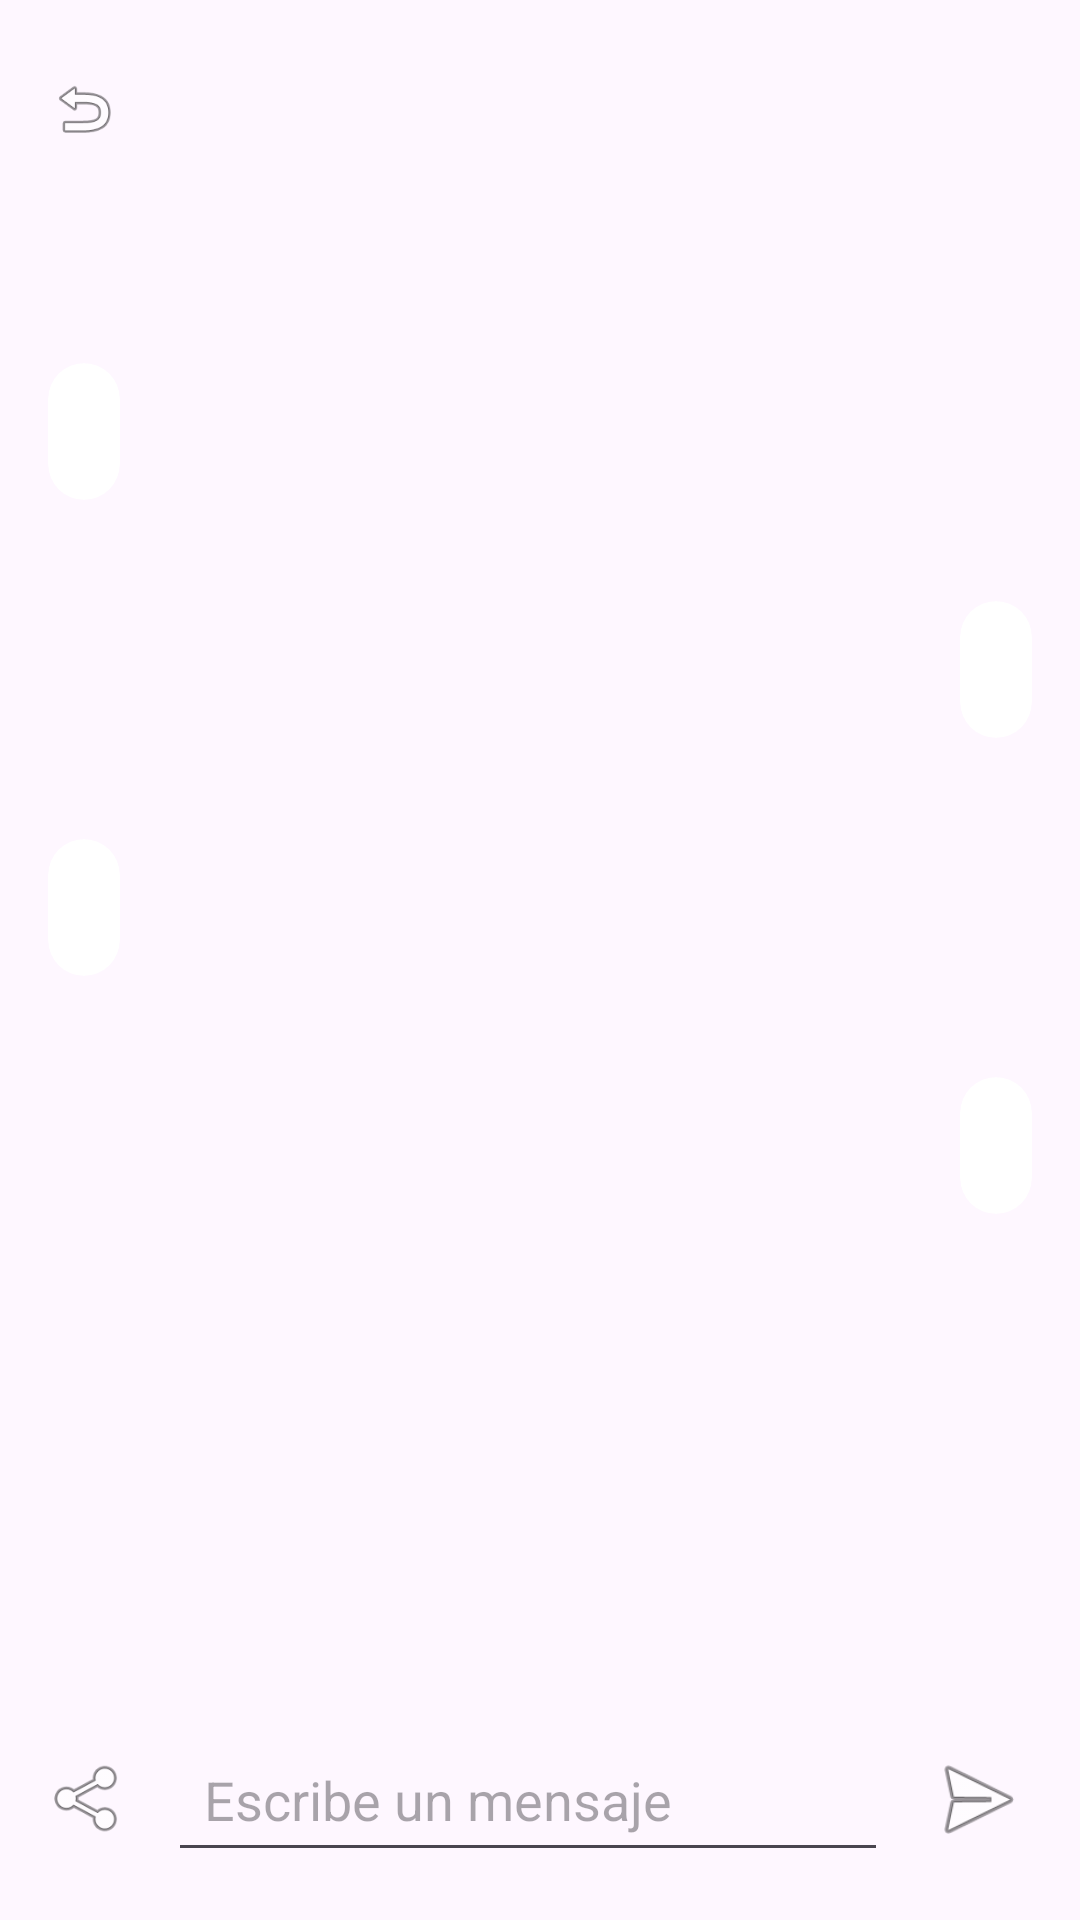

Icons on this 1080*1920 Android screen, each with its box as (x1, y1, x2, y2):
revert: (59, 86, 111, 133)
send: (944, 1765, 1014, 1834)
share: (54, 1766, 117, 1832)
